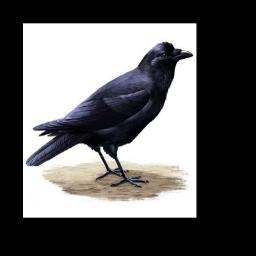Crow: (25, 41, 194, 190)
